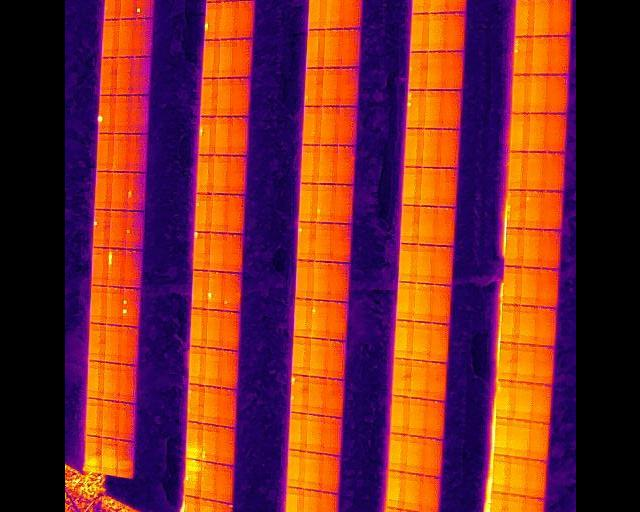Cell: (296, 223, 315, 261), (203, 1, 221, 40), (525, 190, 543, 229), (97, 96, 115, 133), (127, 173, 145, 210), (311, 301, 329, 338), (197, 117, 214, 155), (194, 195, 211, 232), (92, 210, 109, 247), (125, 212, 142, 249), (207, 273, 224, 309), (193, 231, 209, 269), (135, 0, 153, 19)
Cell-Multi: (511, 36, 531, 75), (405, 90, 425, 128), (289, 376, 307, 413), (121, 289, 139, 325)
No-Anomaly: (444, 12, 465, 51), (403, 128, 424, 167), (526, 460, 546, 500), (332, 185, 353, 223), (400, 167, 421, 205), (547, 75, 568, 113), (435, 207, 455, 246), (443, 52, 463, 91), (440, 90, 460, 129), (507, 151, 527, 190), (511, 74, 531, 113), (331, 224, 351, 263), (540, 230, 560, 269), (544, 153, 564, 192), (545, 113, 565, 152), (548, 36, 568, 75), (301, 106, 321, 145), (437, 169, 457, 207), (419, 168, 439, 206), (433, 246, 453, 284), (319, 454, 339, 492), (543, 191, 563, 229), (549, 0, 570, 36), (500, 304, 519, 343), (230, 77, 249, 116), (233, 39, 252, 78), (426, 361, 445, 400), (518, 306, 537, 345), (512, 382, 531, 421), (319, 106, 338, 145), (339, 68, 358, 107), (392, 359, 411, 398), (336, 145, 355, 184), (492, 456, 512, 493), (430, 286, 450, 323), (528, 423, 548, 460), (394, 321, 414, 358), (396, 283, 416, 320), (404, 438, 425, 473), (414, 284, 433, 322), (409, 14, 428, 52), (421, 130, 440, 168), (429, 324, 448, 362), (510, 113, 529, 151), (510, 421, 529, 459), (526, 152, 545, 190), (318, 146, 337, 184), (337, 107, 356, 145), (398, 244, 417, 282), (539, 269, 558, 307), (407, 52, 426, 90), (298, 184, 317, 222), (295, 261, 314, 299), (234, 0, 253, 38), (291, 337, 310, 375), (306, 30, 325, 68), (312, 262, 331, 300), (389, 398, 409, 434), (532, 383, 550, 423), (411, 323, 430, 360), (408, 399, 427, 436), (122, 250, 141, 287), (303, 69, 322, 106), (217, 39, 235, 78), (440, 129, 458, 168), (132, 56, 150, 95), (129, 95, 147, 134), (316, 184, 334, 223), (301, 145, 319, 184), (310, 338, 328, 377), (498, 344, 517, 380), (228, 156, 246, 194), (94, 171, 112, 209), (418, 207, 436, 245), (425, 52, 443, 90), (493, 419, 512, 455), (503, 267, 521, 305), (505, 228, 523, 266), (101, 19, 119, 57), (508, 190, 526, 228), (514, 0, 533, 36), (529, 75, 547, 113), (521, 268, 539, 306), (523, 230, 541, 268), (528, 114, 546, 152), (322, 419, 341, 455), (323, 30, 341, 68), (325, 379, 343, 417), (387, 435, 406, 471), (399, 206, 417, 244), (531, 36, 549, 74), (117, 365, 136, 401), (115, 57, 133, 95), (117, 403, 135, 441), (118, 19, 136, 57), (286, 450, 304, 488), (304, 452, 322, 490), (210, 195, 228, 232), (426, 14, 444, 51), (425, 401, 443, 438), (188, 348, 206, 385), (410, 362, 428, 399), (293, 300, 311, 337), (422, 440, 441, 475), (515, 346, 534, 381), (403, 475, 422, 510), (219, 1, 236, 40), (230, 117, 247, 156), (331, 263, 348, 302), (330, 301, 347, 340), (328, 340, 345, 379), (537, 307, 554, 346), (314, 223, 331, 262), (217, 390, 235, 426), (224, 235, 242, 271), (185, 423, 203, 459), (386, 472, 404, 508), (534, 347, 552, 383), (532, 0, 550, 36), (306, 378, 324, 414), (195, 155, 212, 193), (200, 79, 217, 117), (211, 156, 228, 194), (496, 381, 513, 419), (99, 57, 116, 95), (96, 133, 113, 171), (416, 245, 433, 283), (424, 90, 441, 128), (321, 68, 338, 106), (341, 29, 358, 67), (90, 247, 107, 285), (134, 19, 151, 57), (110, 172, 127, 210), (129, 134, 146, 172), (289, 412, 306, 450), (220, 352, 238, 387), (215, 467, 233, 502), (116, 442, 134, 477), (202, 41, 219, 78), (214, 118, 231, 155), (226, 196, 243, 233), (509, 459, 526, 496), (101, 401, 118, 438), (112, 134, 129, 171), (306, 416, 323, 453), (419, 479, 438, 512), (191, 272, 208, 308), (223, 274, 240, 310), (183, 460, 200, 496), (86, 362, 103, 398), (88, 325, 105, 361), (104, 326, 121, 362), (109, 211, 126, 247), (105, 288, 122, 324), (120, 328, 137, 364), (209, 235, 226, 270), (217, 429, 234, 464), (221, 313, 238, 348), (102, 364, 119, 399), (190, 310, 207, 345), (187, 386, 204, 421), (85, 400, 102, 435), (342, 0, 362, 29), (201, 427, 218, 461), (200, 465, 217, 499), (206, 350, 222, 386), (90, 286, 106, 322), (114, 96, 129, 134), (206, 312, 222, 347), (101, 439, 117, 474), (216, 79, 231, 116), (84, 437, 100, 471), (307, 0, 325, 30), (325, 0, 342, 29), (203, 389, 217, 424), (284, 490, 302, 512), (316, 494, 337, 512), (301, 491, 319, 512), (489, 494, 508, 512), (104, 0, 120, 20), (507, 496, 526, 512), (119, 0, 135, 18), (445, 0, 466, 13), (411, 0, 430, 14), (523, 499, 543, 512), (429, 0, 445, 14), (184, 498, 198, 512), (199, 501, 215, 512), (213, 505, 231, 512)
Unclassified: (106, 249, 124, 286)
